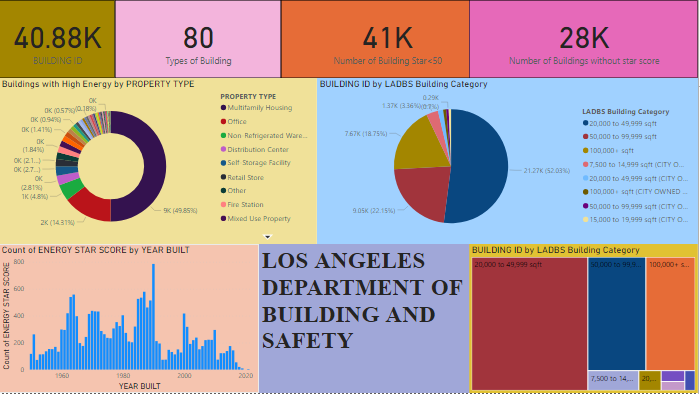

The dashboard page shown, as its layout file describes it:
{"tool":"powerbi","page":{"name":"Page 1","canvas":[1280,720],"ordinal":0},"visuals":[{"type":"card","fields":{"Values":["CountNonNull(EBEWE_CA.BUILDING ID)"]},"box":[0,0,212.4,142.8],"z":0},{"type":"textbox","box":[10,290,280,280],"z":1000},{"type":"card","fields":{"Values":["EBEWE_CA.Types of Building"]},"box":[212.4,0,304,142.8],"z":3000},{"type":"card","fields":{"Values":["EBEWE_CA.Number of Building Star<50"]},"box":[516.4,0,388.2,142.8],"z":4000},{"type":"card","fields":{"Values":["EBEWE_CA.Number of Buildings without star score"]},"box":[860.7,0,419.3,142.8],"z":5000},{"type":"clusteredColumnChart","fields":{"Y":["CountNonNull(EBEWE_CA.ENERGY STAR SCORE)"],"Category":["EBEWE_CA.YEAR BUILT"]},"box":[0,446.8,476.1,272.8],"z":6000},{"type":"donutChart","fields":{"Y":["EBEWE_CA.Buildings with High Energy"],"Series":["EBEWE_CA.PROPERTY TYPE"]},"box":[0,142.8,582.3,304],"z":7000},{"type":"pieChart","fields":{"Category":["EBEWE_CA.LADBS Building Category"],"Y":["CountNonNull(EBEWE_CA.BUILDING ID)"]},"box":[582.3,142.8,697.7,304],"z":8000},{"type":"treemap","fields":{"Group":["EBEWE_CA.LADBS Building Category"],"Values":["CountNonNull(EBEWE_CA.BUILDING ID)"]},"box":[860.7,446.8,419.3,272.8],"z":9000},{"type":"textbox","box":[476.1,446.8,384.5,272.8],"z":9001}]}

Visuals, with their boxes in screenshot pixels (x1, y1, x2, y2), scaled from the page's 1280x720 canvas onto the 700x394 screenshot:
card - CountNonNull(EBEWE_CA.BUILDING ID): (0, 0, 116, 78)
textbox: (5, 159, 159, 312)
card - EBEWE_CA.Types of Building: (116, 0, 282, 78)
card - EBEWE_CA.Number of Building Star<50: (282, 0, 495, 78)
card - EBEWE_CA.Number of Buildings without star score: (471, 0, 699, 78)
clusteredColumnChart - CountNonNull(EBEWE_CA.ENERGY STAR SCORE) x EBEWE_CA.YEAR BUILT: (0, 244, 260, 393)
donutChart - EBEWE_CA.Buildings with High Energy x EBEWE_CA.PROPERTY TYPE: (0, 78, 318, 244)
pieChart - EBEWE_CA.LADBS Building Category x CountNonNull(EBEWE_CA.BUILDING ID): (318, 78, 699, 244)
treemap - EBEWE_CA.LADBS Building Category x CountNonNull(EBEWE_CA.BUILDING ID): (471, 244, 699, 393)
textbox: (260, 244, 471, 393)
